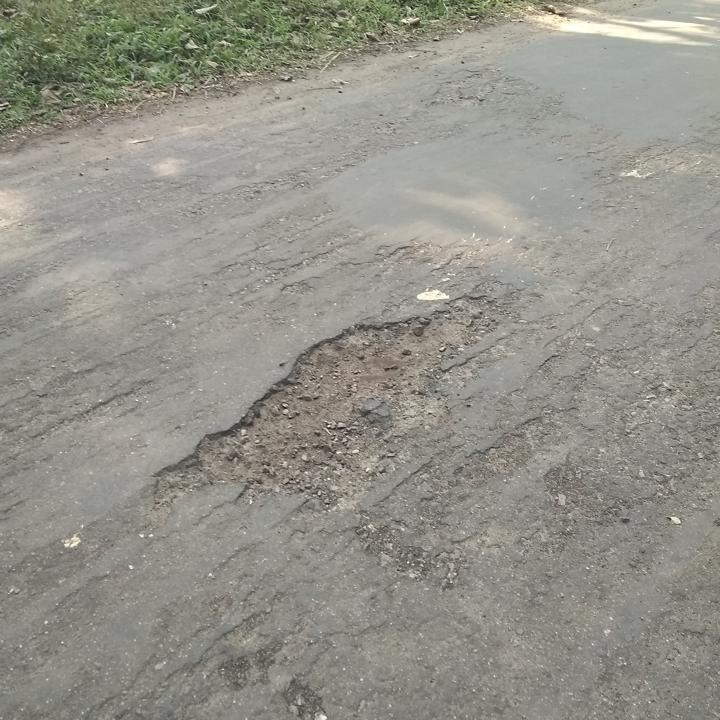pothole: (142, 289, 507, 522)
